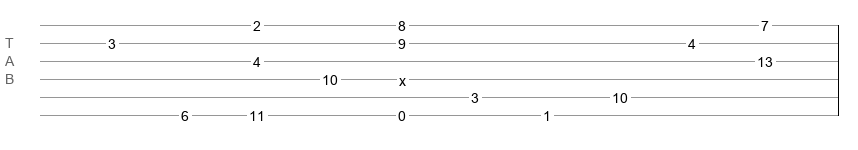0: (398, 108, 406, 118)
1: (543, 108, 551, 118)
10: (322, 72, 338, 82), (612, 90, 628, 100)
11: (249, 108, 265, 118)
13: (757, 54, 773, 64)
2: (253, 18, 261, 28)
3: (108, 36, 116, 46), (471, 90, 479, 100)
4: (253, 54, 261, 64), (688, 36, 696, 46)
6: (181, 108, 189, 118)
7: (761, 18, 769, 28)
8: (398, 18, 406, 28)
9: (398, 36, 406, 46)
x: (399, 73, 406, 81)
